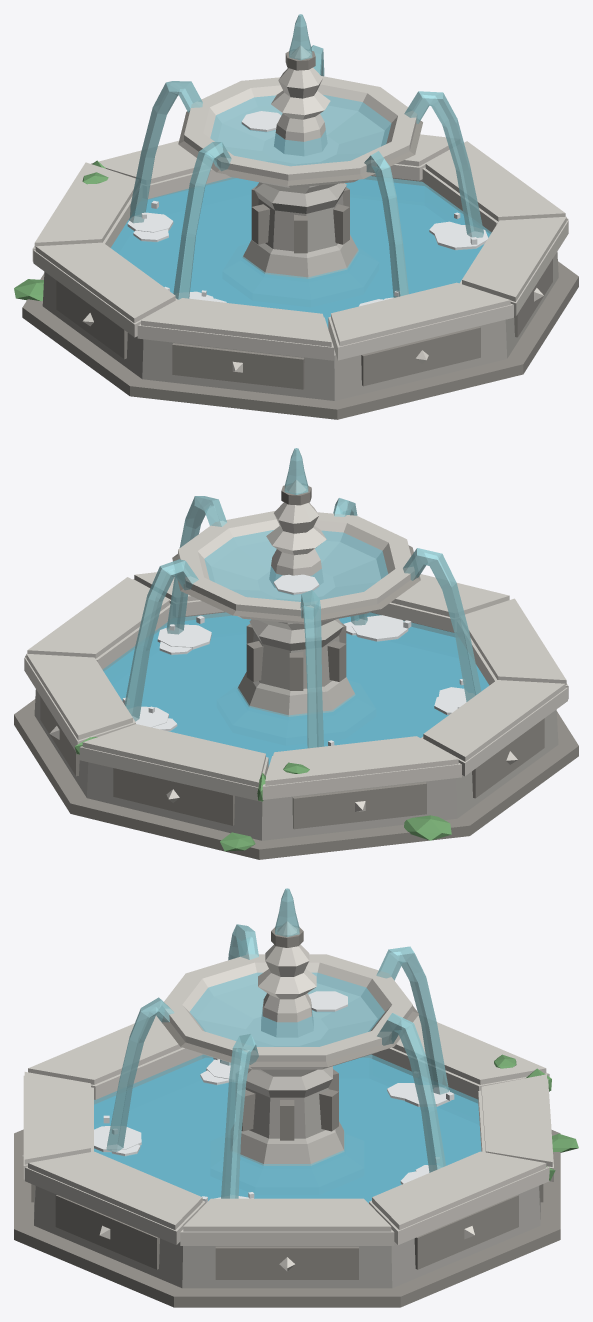
File: Fountain.fbx
3 views of the same model, one above another, from view 1: azimuth 30°, elevation 25°; view 2: azimuth 150°, elevation 25°; view 3: azimuth 270°, elevation 25° (orthographic). The views are drawn at different scales.
Parts seen in each view (by area): view 1: Fountain.Coping, Fountain.WaterSurface, Fountain.DarkStonework, Fountain.WaterBed, Fountain.BowlAndFinial, Fountain.Jets, Fountain.BasinWall, Fountain.Pedestal, Fountain.Foam, Fountain.Moss; view 2: Fountain.Coping, Fountain.WaterSurface, Fountain.DarkStonework, Fountain.WaterBed, Fountain.BowlAndFinial, Fountain.Jets, Fountain.BasinWall, Fountain.Pedestal, Fountain.Foam, Fountain.Moss; view 3: Fountain.Coping, Fountain.WaterSurface, Fountain.DarkStonework, Fountain.WaterBed, Fountain.BowlAndFinial, Fountain.Jets, Fountain.BasinWall, Fountain.Pedestal, Fountain.Foam, Fountain.Moss.
Boxes of the visible parts, box(x1,y1,x2,y2) form: Fountain.Coping: box(32, 134, 568, 372); Fountain.WaterSurface: box(111, 95, 491, 327); Fountain.DarkStonework: box(22, 50, 578, 419); Fountain.WaterBed: box(111, 178, 490, 326); Fountain.BowlAndFinial: box(184, 45, 416, 187); Fountain.Jets: box(128, 14, 483, 299); Fountain.BasinWall: box(42, 175, 558, 400); Fountain.Pedestal: box(242, 182, 358, 278); Fountain.Foam: box(127, 111, 487, 306); Fountain.Moss: box(14, 160, 108, 301); Fountain.Coping: box(24, 572, 568, 811); Fountain.WaterSurface: box(103, 530, 488, 766); Fountain.DarkStonework: box(14, 485, 578, 859); Fountain.WaterBed: box(104, 616, 488, 764); Fountain.BowlAndFinial: box(178, 480, 414, 624); Fountain.Jets: box(124, 448, 481, 748); Fountain.BasinWall: box(34, 611, 558, 840); Fountain.Pedestal: box(237, 619, 355, 716); Fountain.Foam: box(122, 574, 466, 745); Fountain.Moss: box(74, 737, 451, 851); Fountain.Coping: box(22, 1015, 553, 1271); Fountain.WaterSurface: box(94, 972, 481, 1203); Fountain.DarkStonework: box(14, 927, 560, 1307); Fountain.WaterBed: box(94, 1058, 480, 1202); Fountain.BowlAndFinial: box(164, 921, 412, 1069); Fountain.Jets: box(106, 888, 449, 1198); Fountain.BasinWall: box(34, 1054, 540, 1288); Fountain.Pedestal: box(240, 1066, 344, 1165); Fountain.Foam: box(94, 991, 454, 1203); Fountain.Moss: box(494, 1054, 578, 1180).
Bounding box in the file's own units: 6.87 × 4.2 × 7.1.
